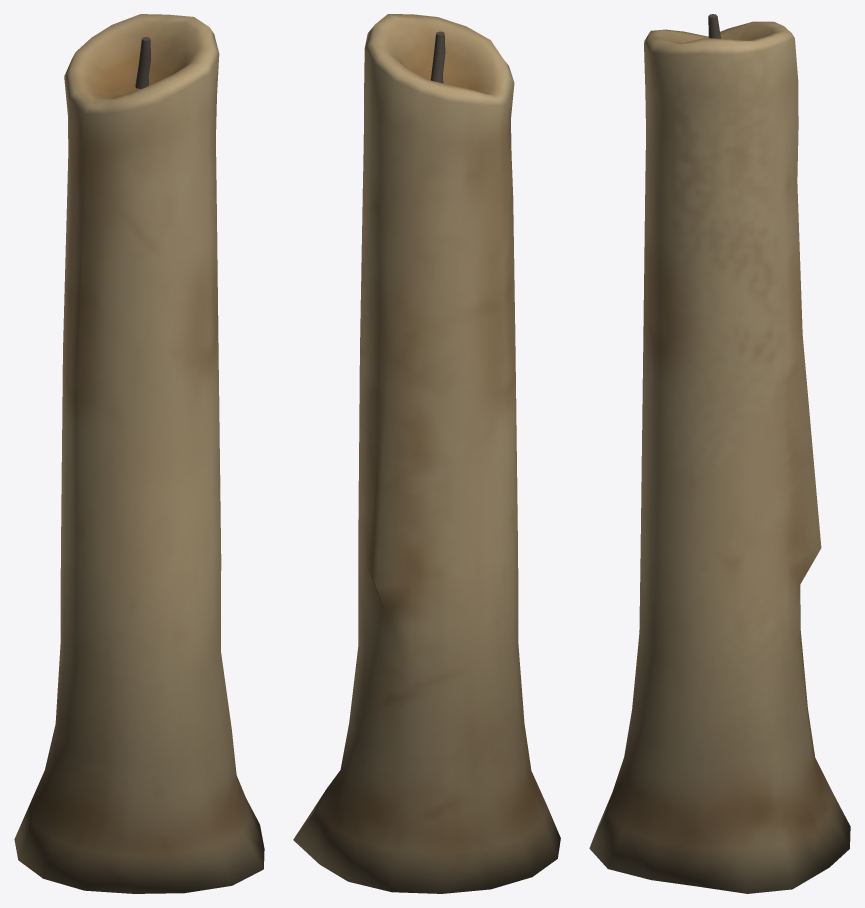
The model's file is SM_candleA_a1.fbx.
3 renders of one model, left to right at view 1: azimuth 30°, elevation 25°; view 2: azimuth 150°, elevation 25°; view 3: azimuth 270°, elevation 25°, orthographic.
Visible parts, largest first — view 1: SM_candleA_a1_LOD0; view 2: SM_candleA_a1_LOD0; view 3: SM_candleA_a1_LOD0.
Part boxes in pixels (left/top/right/bottom): SM_candleA_a1_LOD0: left=14, top=14, right=264, bottom=893; SM_candleA_a1_LOD0: left=293, top=14, right=560, bottom=893; SM_candleA_a1_LOD0: left=589, top=14, right=850, bottom=893.
Bounding box in the file's own units: 8.29 × 8.07 × 28.04.
Materials: 1 (1 with a texture image).
